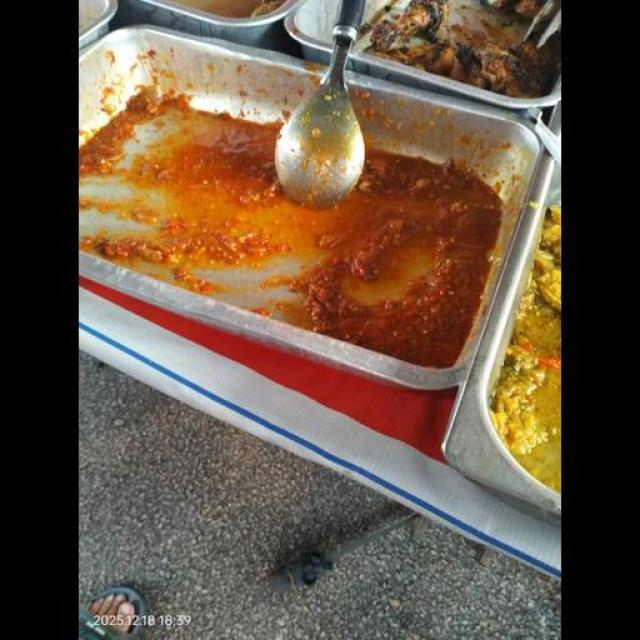organic: (108, 33, 500, 393)
